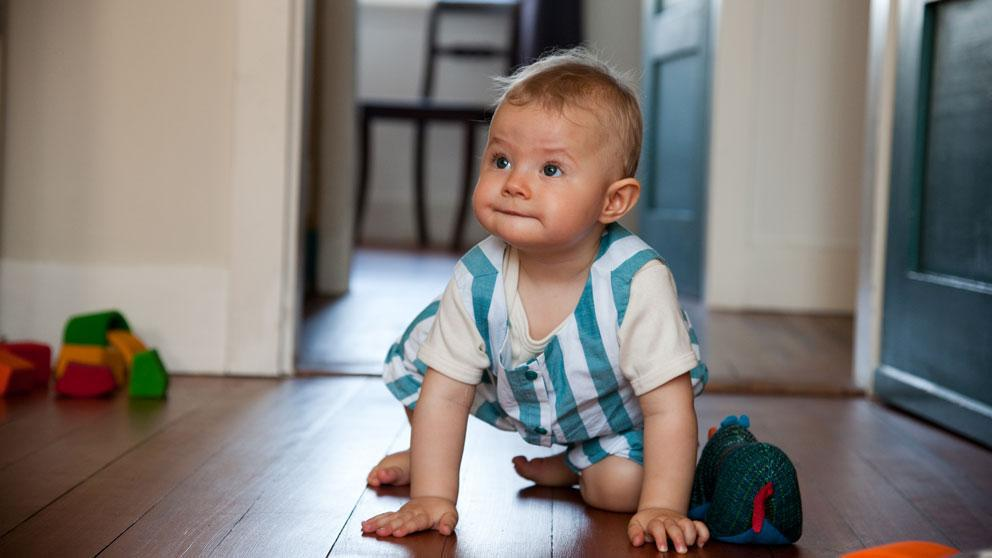child: (337, 38, 738, 552)
